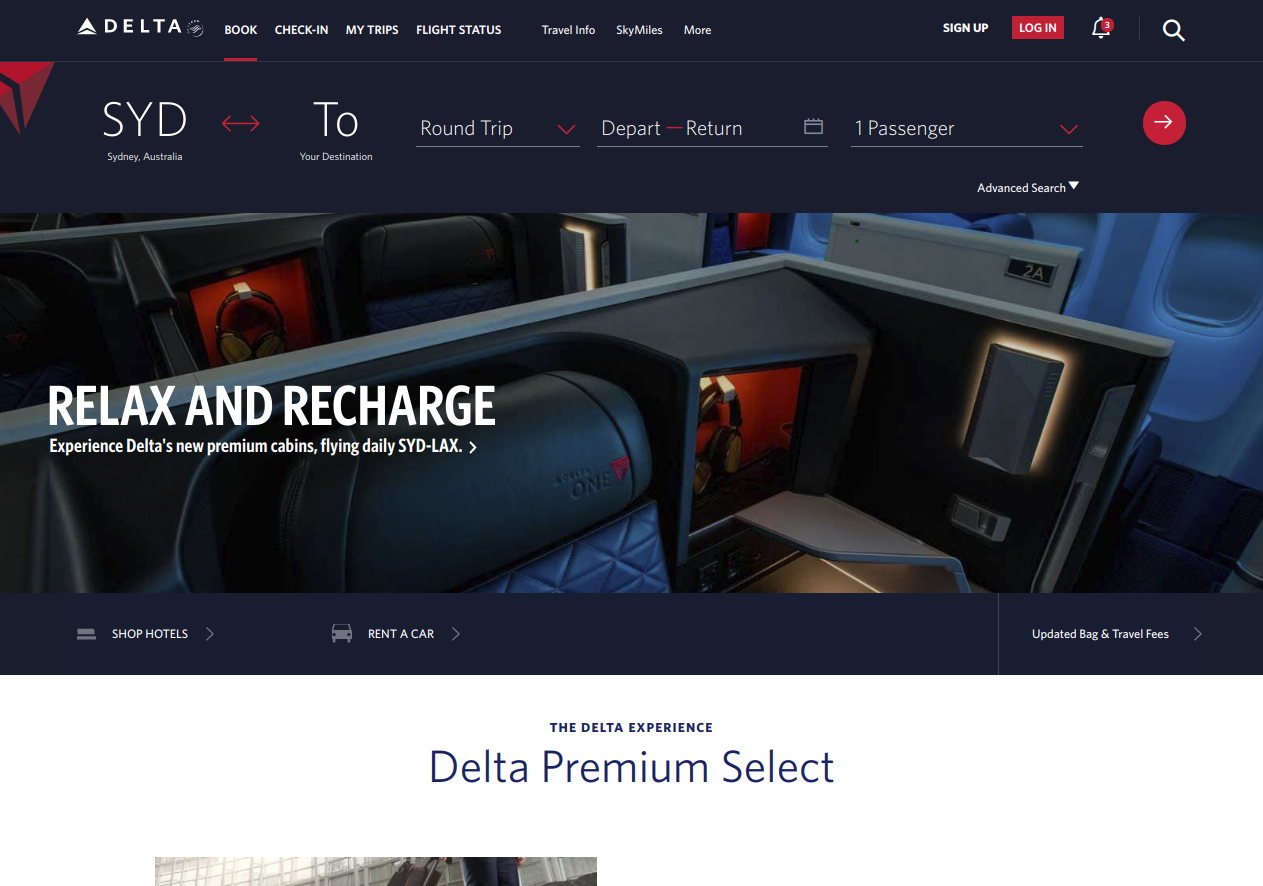Delta Airlines: (72, 14, 183, 45)
